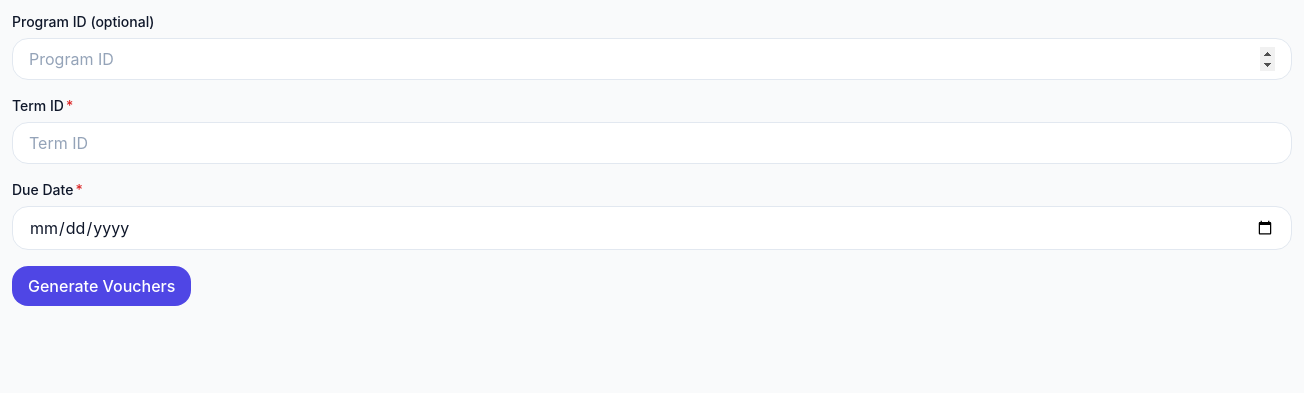
Test: VoucherGenerationForm › requires term and due date
The width and height of the screenshot is (1304, 393).
Click the button "Generate Vouchers".
click(102, 286)  # box x1=12 y1=266 x2=191 y2=306
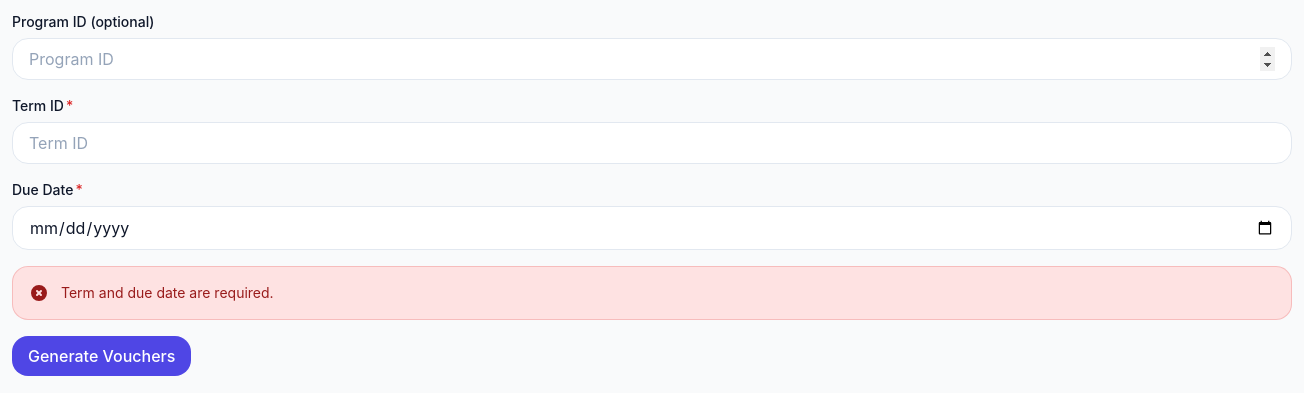
Now the text "Term and due date are required." is shown, box x1=61 y1=284 x2=274 y2=301
